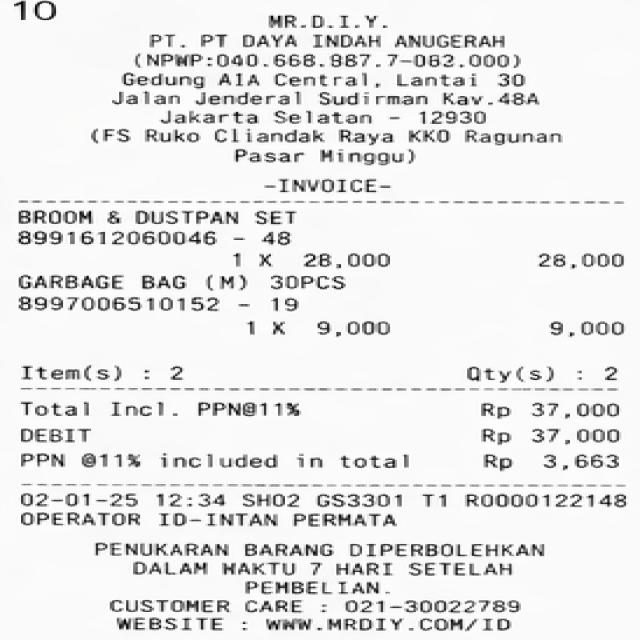date: (11, 483, 238, 512)
store: (252, 12, 418, 34)
total: (17, 396, 625, 422)
